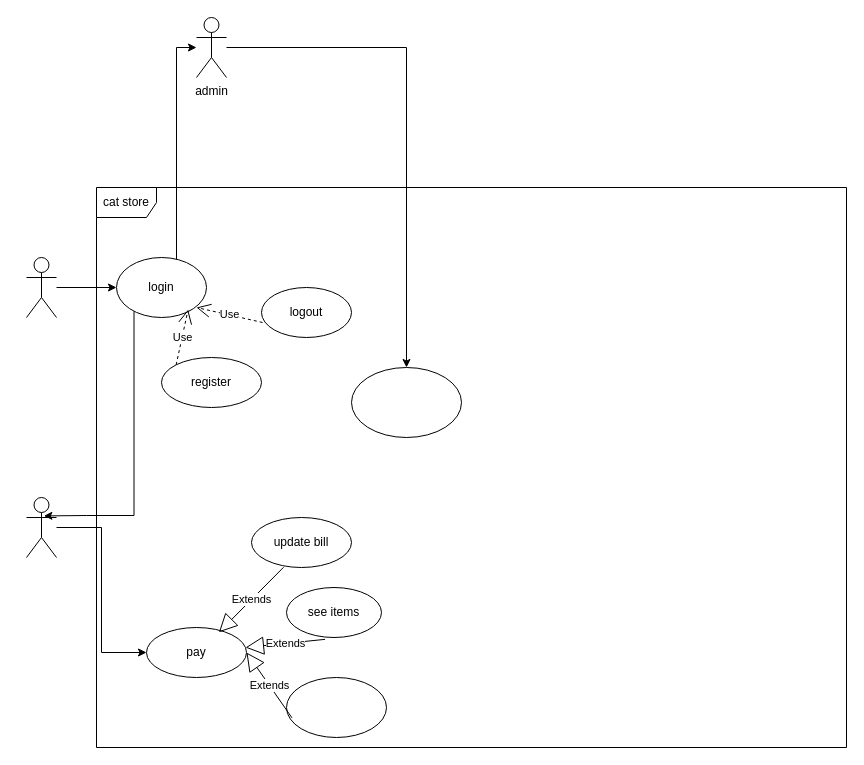
Some shapes in this 864 by 765 pixel diagram are drawn without their labels. The shapes that lost their labels are listed below. From the top down, each one's centre as x and y in pixels, then its label:
point (41, 287): guest
point (406, 402): update items
point (41, 527): customer
point (336, 707): update cart
